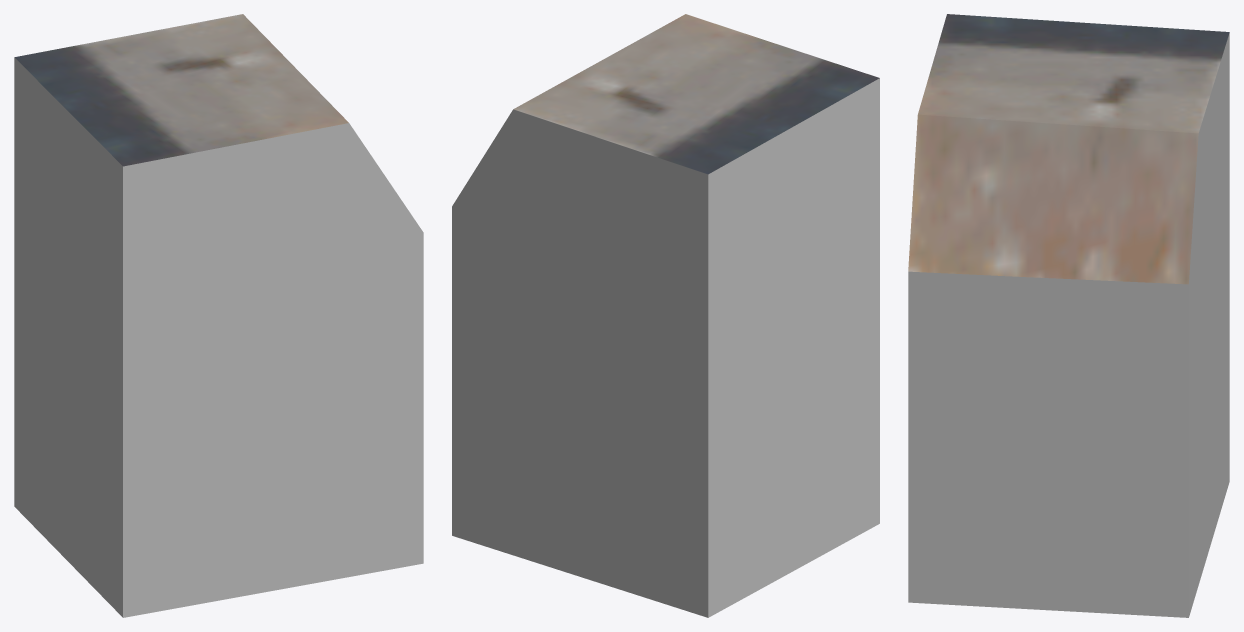
Rendered from DEBW_0010007Tx5q.gltf.
3 renders of one model, left to right at view 1: azimuth 30°, elevation 25°; view 2: azimuth 150°, elevation 25°; view 3: azimuth 270°, elevation 25°, orthographic.
Parts seen in each view (by area): view 1: Z_UP; view 2: Z_UP; view 3: Z_UP.
Boxes of the visible parts, box(x1,y1,x2,y2) form: Z_UP: box(14, 14, 423, 617); Z_UP: box(452, 14, 879, 617); Z_UP: box(908, 14, 1229, 617).
Bounding box in the file's own units: 12.18 × 16.9 × 10.85.
Materials: 2 (1 with a texture image).
